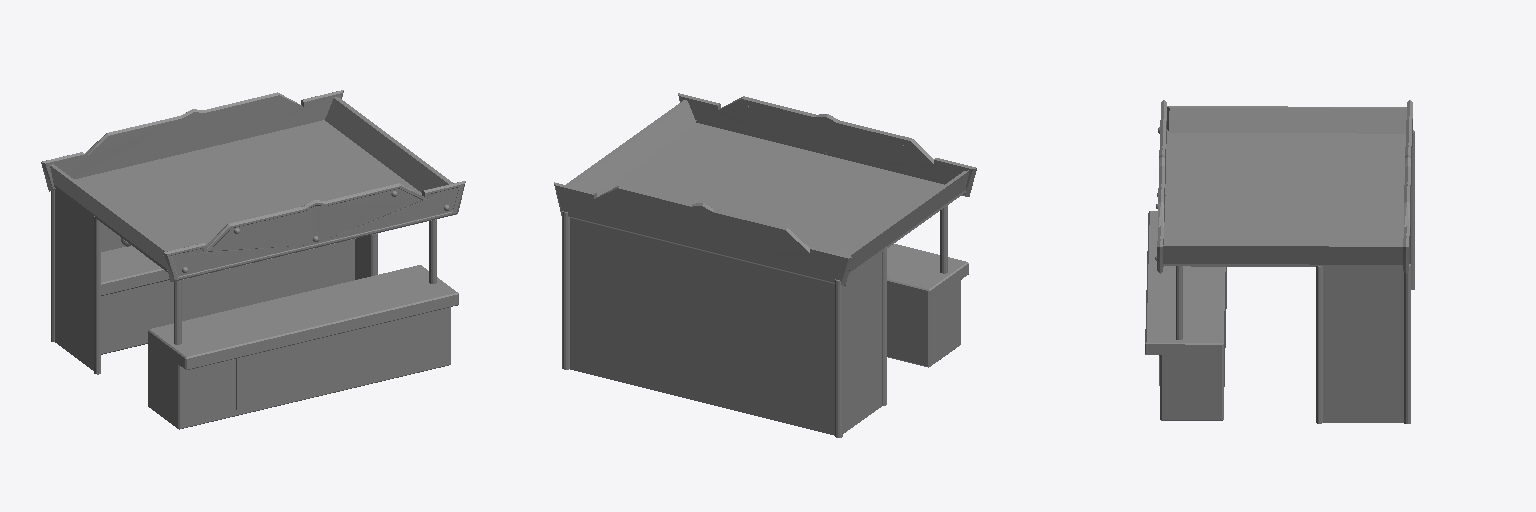
The model's file is puestoDardos.obj.
3 renders of one model, left to right at view 1: azimuth 30°, elevation 25°; view 2: azimuth 150°, elevation 25°; view 3: azimuth 270°, elevation 25°, orthographic.
Visible parts, largest first — view 1: Cube_031, Cube_029, Cube_001, Plane_010, Plane_011, letrero, Cube_002, Cylinder_002, Cube_003, Cylinder_003; view 2: Cube_030, Cube_031, Plane_011, Plane_010, Cube_029, Cube_002, Cylinder_001, Cylinder_003, Cylinder_002; view 3: Cube_031, Cube_003, Cube_029, Plane_011, Plane_010, Cylinder_012, Cylinder_001, Cylinder_003.
Part boxes in pixels (x1,y1,x2,y2): Cube_031: (50,97,452,271); Cube_029: (148,265,458,429); Cube_001: (101,239,354,354); Plane_010: (163,181,465,281); Plane_011: (41,90,343,191); letrero: (236,321,392,409); Cube_002: (55,189,93,370); Cylinder_002: (94,216,100,374); Cube_003: (355,235,369,279); Cylinder_003: (51,190,54,341); Cube_030: (570,218,834,435); Cube_031: (566,100,968,275); Plane_011: (554,182,852,286); Plane_010: (678,93,976,196); Cube_029: (887,244,968,367); Cube_002: (843,253,881,433); Cylinder_001: (562,211,569,369); Cylinder_003: (835,279,842,437); Cylinder_002: (882,247,886,405); Cube_031: (1163,106,1406,266); Cube_003: (1323,267,1403,422); Cube_029: (1145,211,1226,420); Plane_011: (1403,100,1412,273); Plane_010: (1157,100,1166,273); Cylinder_012: (1316,266,1322,423); Cylinder_001: (1404,264,1410,423); Cylinder_003: (1410,130,1414,289).
Size of the model in its own units: 22.12 by 13.97 by 17.08.